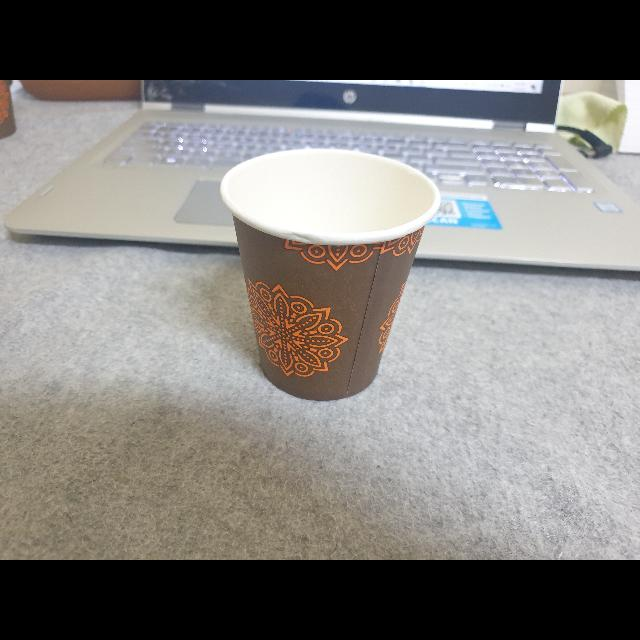trash: (211, 143, 449, 410)
